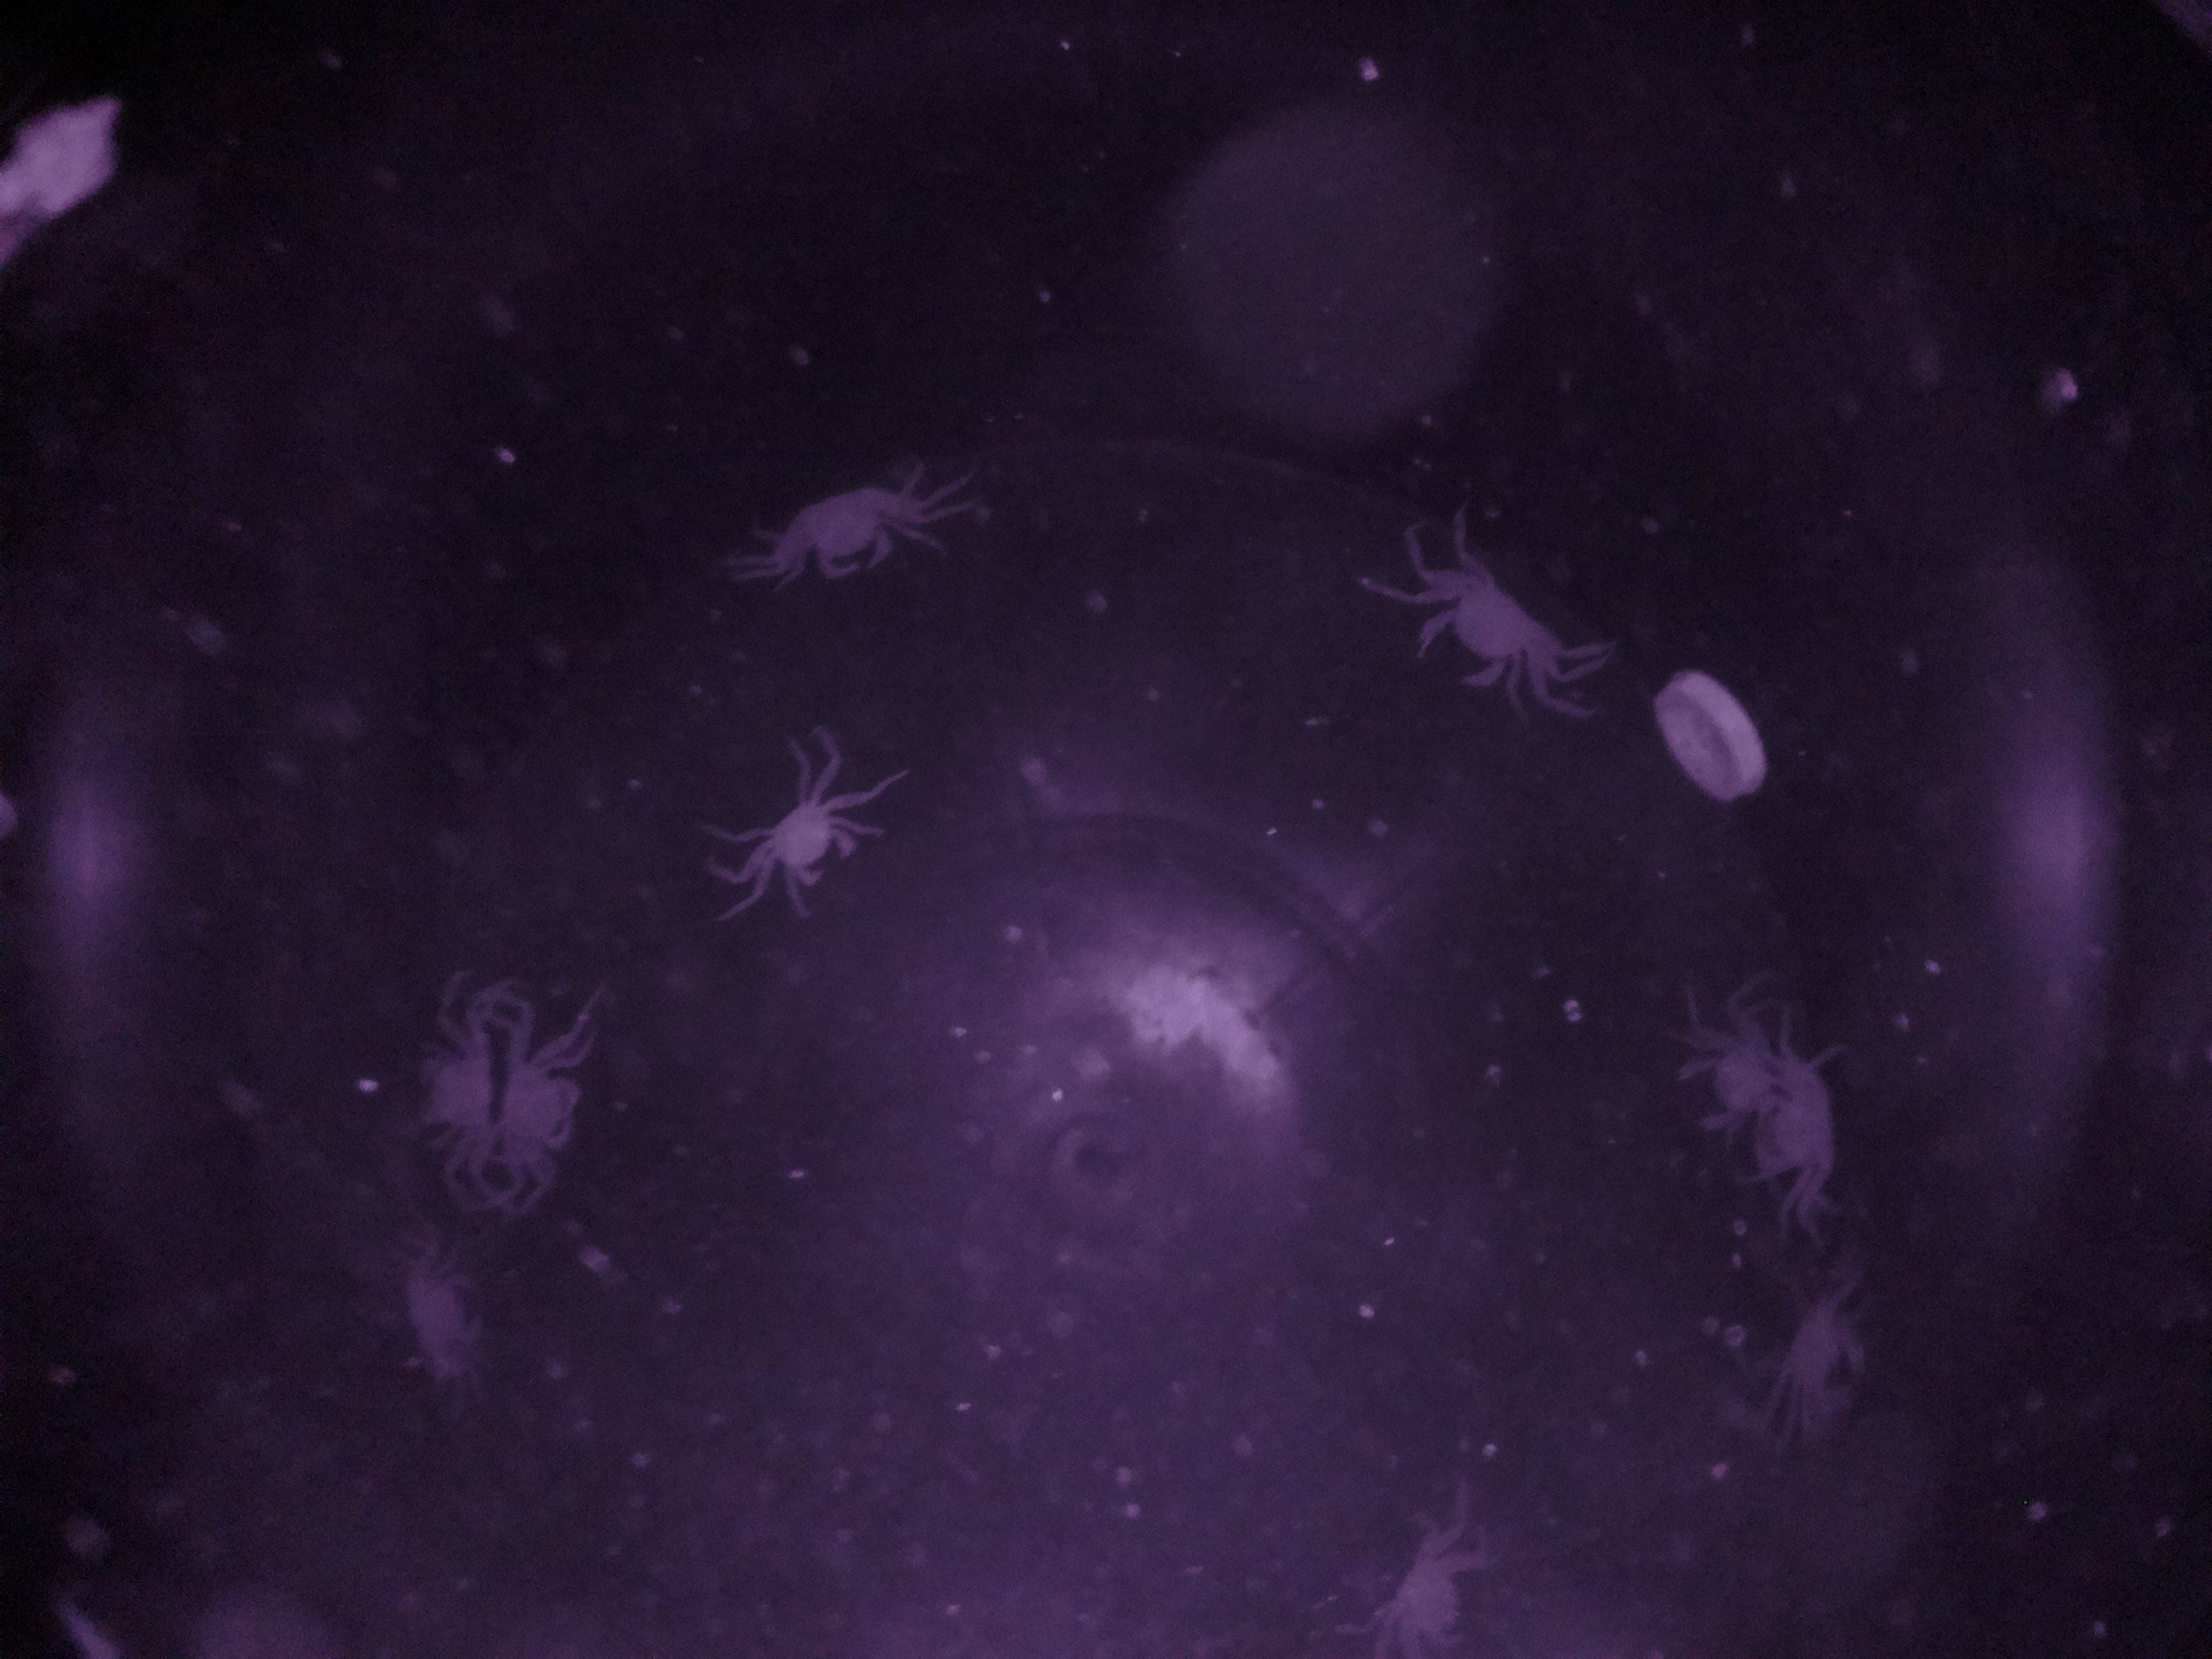Crab: (1388, 533, 1592, 728), (742, 453, 956, 608), (725, 755, 899, 925), (1352, 1499, 1526, 1659), (489, 995, 603, 1204)
